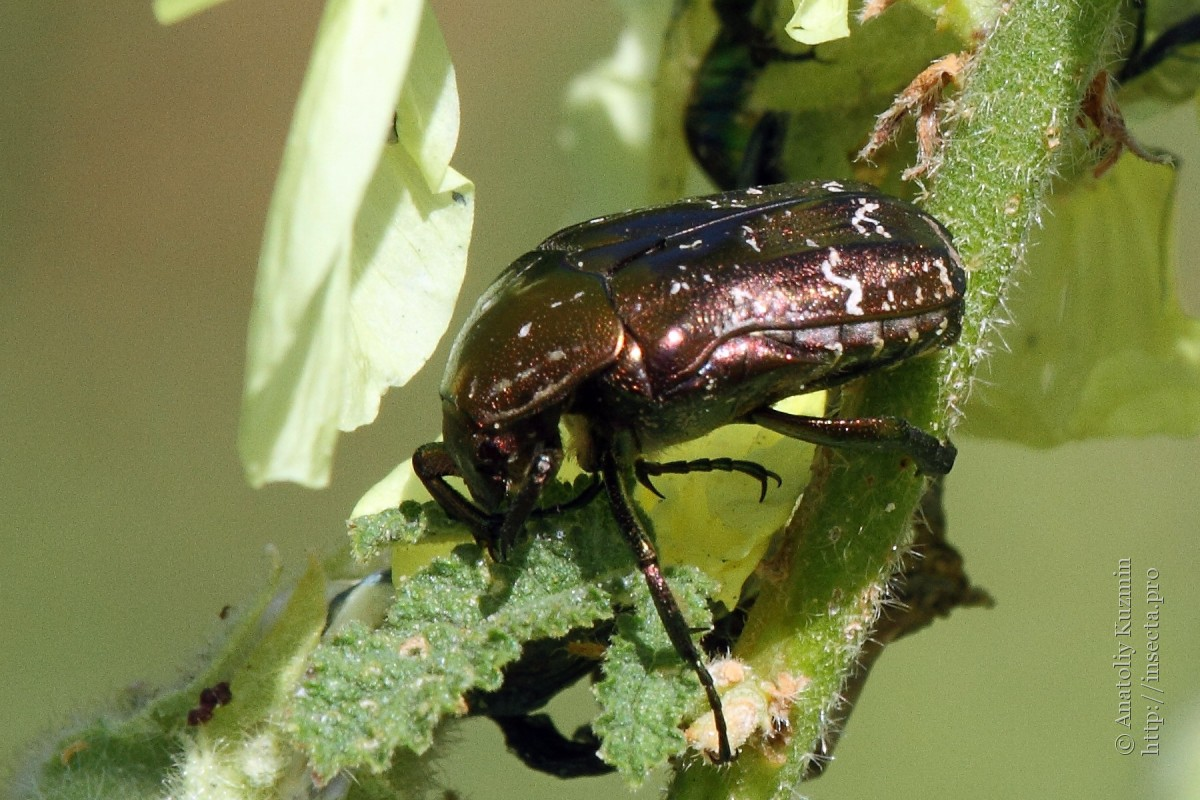Protaetia_cuprina_cuprina: (403, 165, 986, 789)
